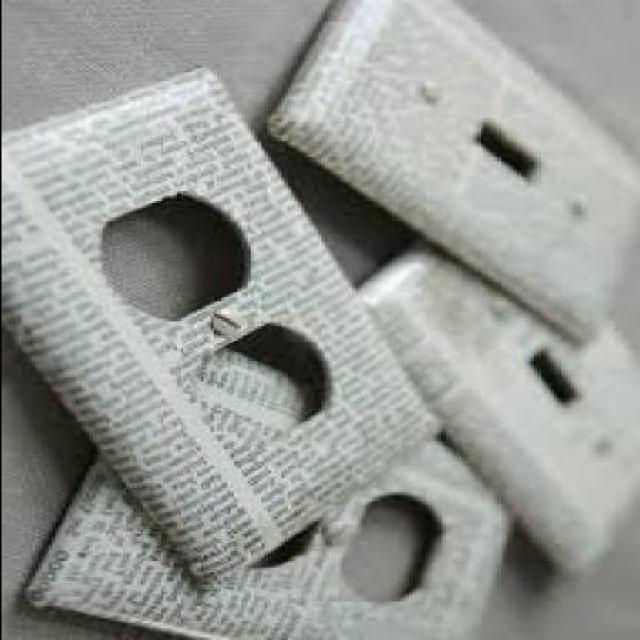PAPER: (2, 69, 436, 577), (26, 332, 521, 640), (269, 0, 640, 339), (360, 251, 640, 571)
